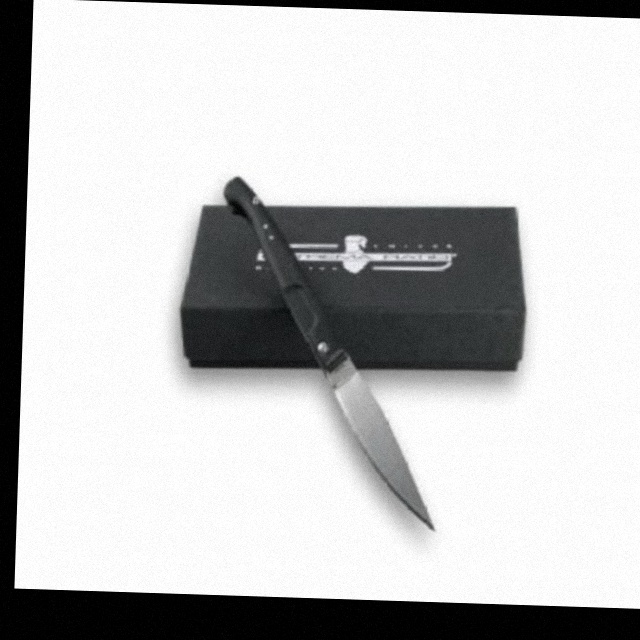Sharp-Object: (215, 175, 449, 532)
